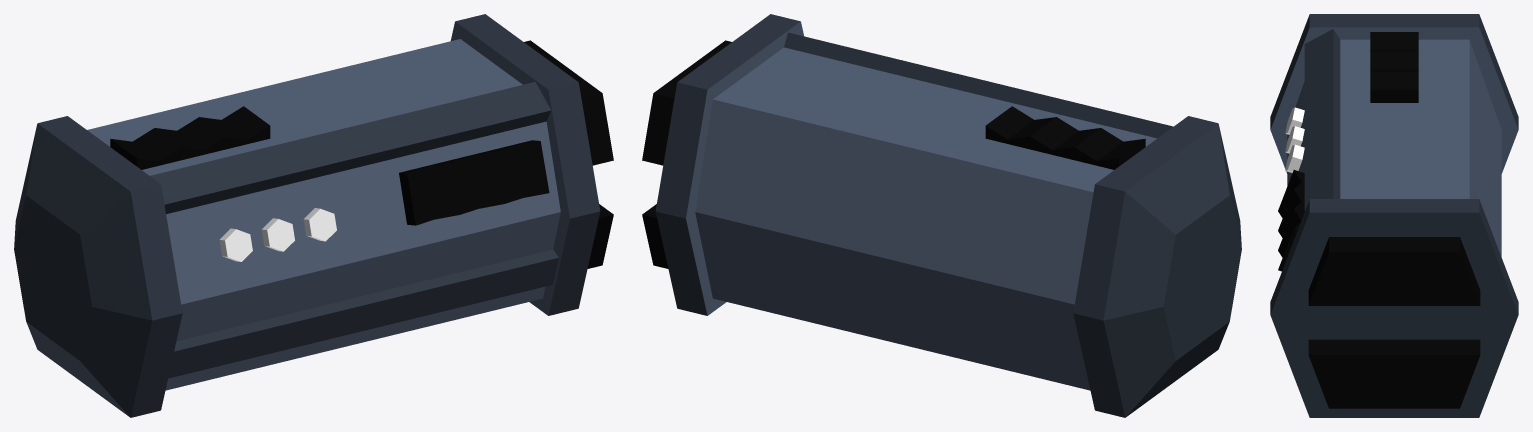
Rendered from MSH_undo_Mahcine.fbx.
3 renders of one model, left to right at view 1: azimuth 30°, elevation 25°; view 2: azimuth 150°, elevation 25°; view 3: azimuth 270°, elevation 25°, orthographic. The views are drawn at different scales.
Visible parts, largest first — view 1: MSH_Undo_Machine; view 2: MSH_Undo_Machine; view 3: MSH_Undo_Machine.
Part boxes in pixels (x1=…): MSH_Undo_Machine: x1=14, y1=14, x2=613, y2=417; MSH_Undo_Machine: x1=642, y1=14, x2=1241, y2=417; MSH_Undo_Machine: x1=1270, y1=14, x2=1518, y2=417.
Bounding box in the file's own units: 60.43 × 25.45 × 27.85.
